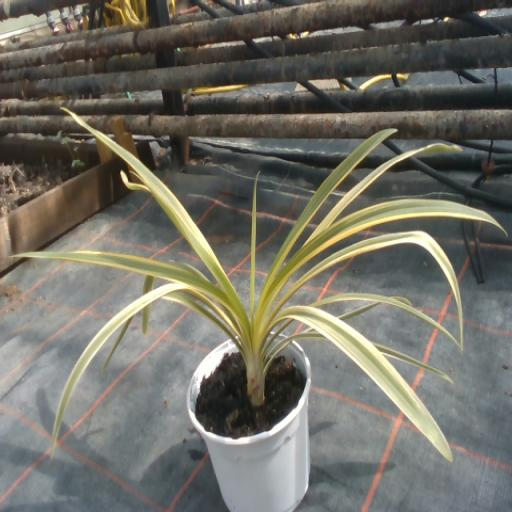Agapanthus-praecox: (66, 109, 248, 333), (284, 306, 451, 460), (257, 129, 393, 317), (52, 284, 186, 455), (269, 198, 505, 292), (276, 231, 462, 349), (310, 145, 441, 238), (23, 252, 227, 305), (310, 293, 456, 343), (372, 342, 452, 383), (103, 316, 133, 368), (103, 316, 132, 368), (163, 292, 216, 320), (250, 175, 258, 334), (338, 303, 379, 319), (172, 261, 203, 276), (271, 336, 291, 354), (142, 304, 150, 334), (143, 275, 155, 293), (294, 333, 323, 340)
